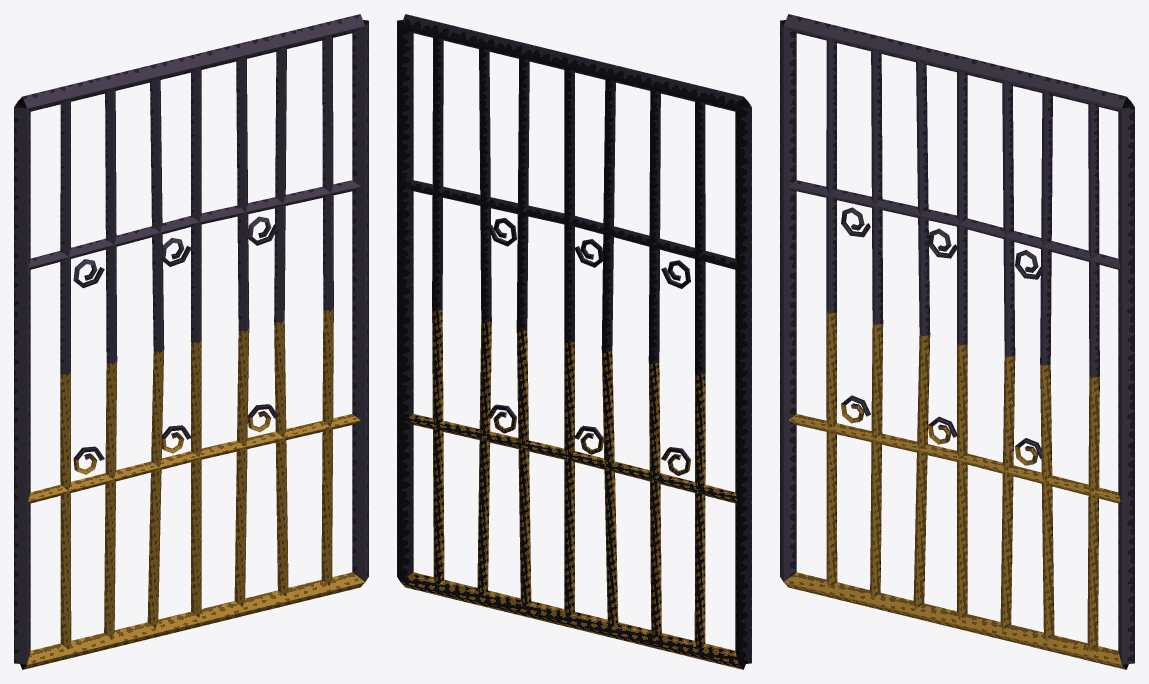
The model's file is ORN-05_Celosia_de_forja.gltf.
The picture shows the model from 3 angles, left to right: view 1: azimuth 30°, elevation 25°; view 2: azimuth 150°, elevation 25°; view 3: azimuth 330°, elevation 25°; orthographic projection.
Parts seen in each view (by area): view 1: ORN-05_Celosia_de_forja-col; view 2: ORN-05_Celosia_de_forja-col; view 3: ORN-05_Celosia_de_forja-col.
Boxes of the visible parts, left/top/right/bottom form: ORN-05_Celosia_de_forja-col: left=14, top=14, right=368, bottom=669; ORN-05_Celosia_de_forja-col: left=397, top=14, right=751, bottom=669; ORN-05_Celosia_de_forja-col: left=780, top=14, right=1134, bottom=669.
Size of the model in its own units: 1.47 by 2.27 by 0.068.
1 material, 1 textured.
